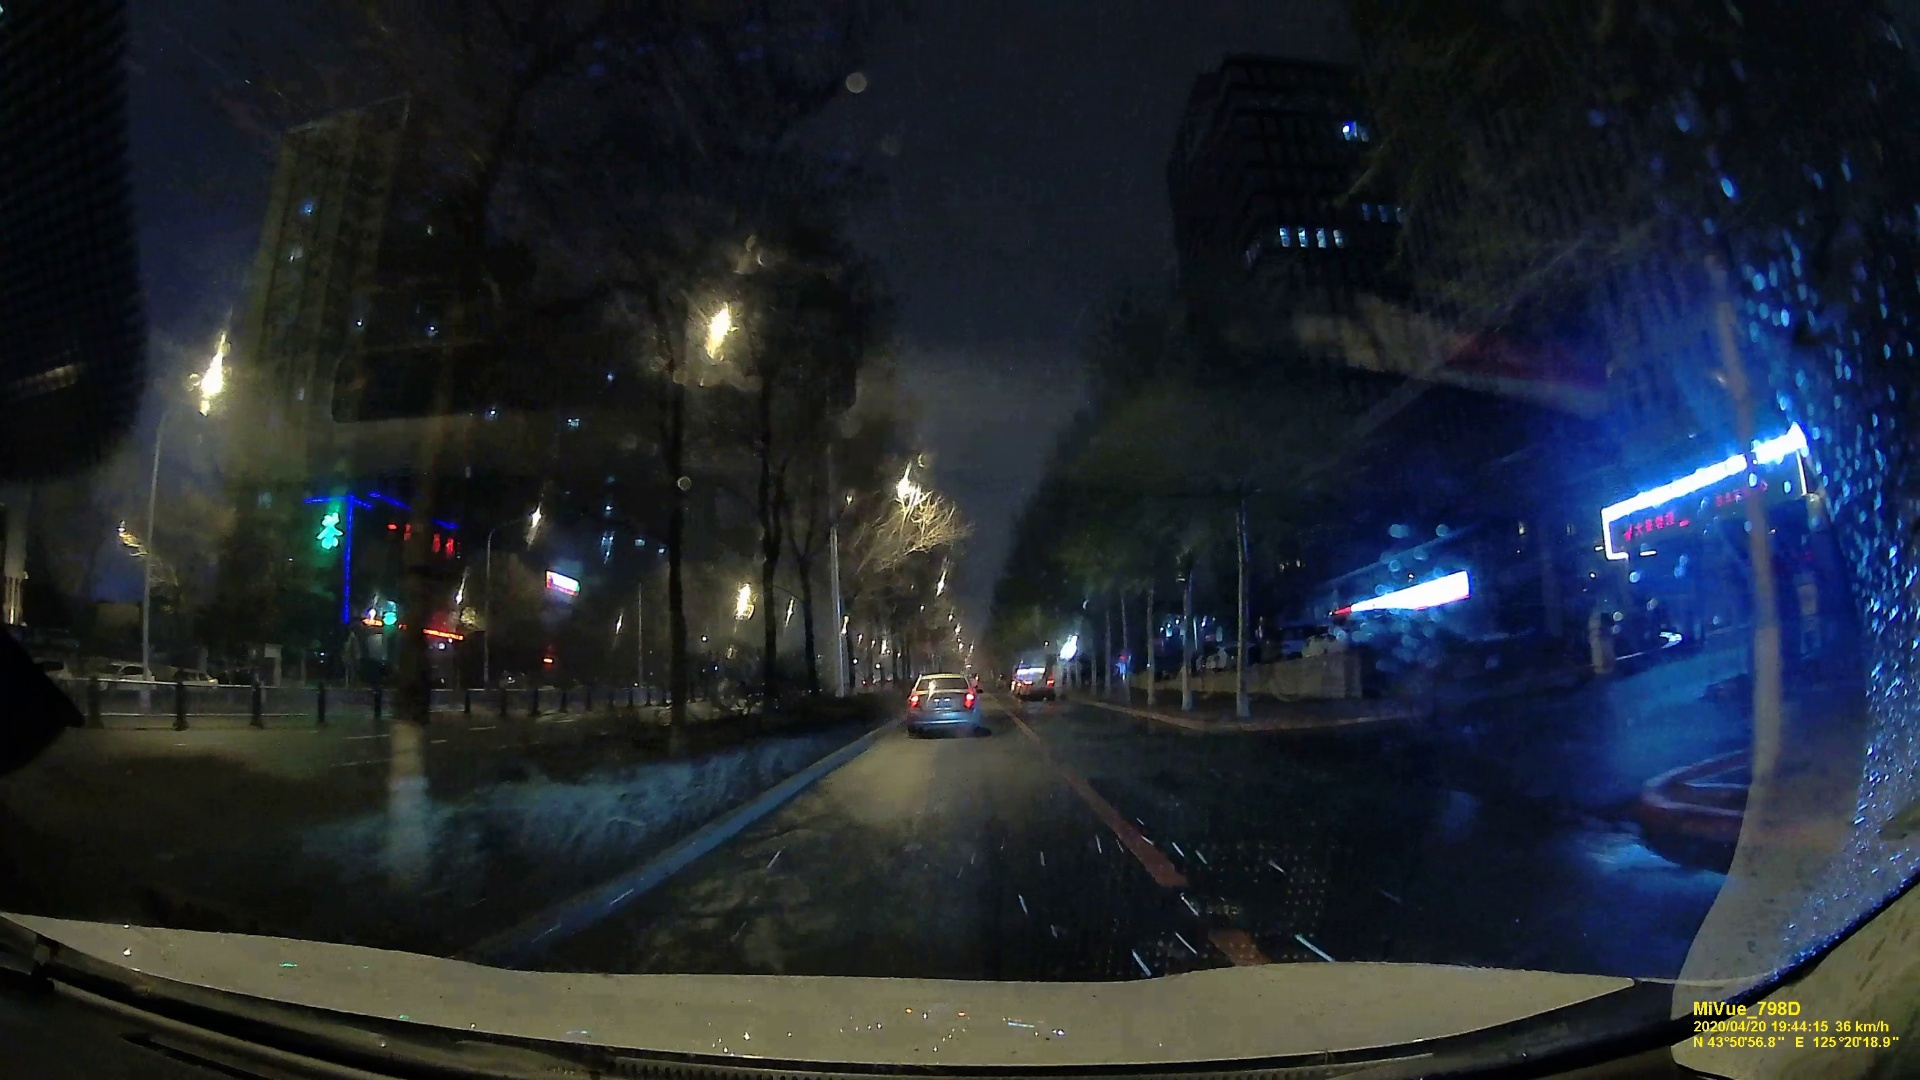vehicle: (906, 673, 984, 737), (1014, 667, 1056, 703)
